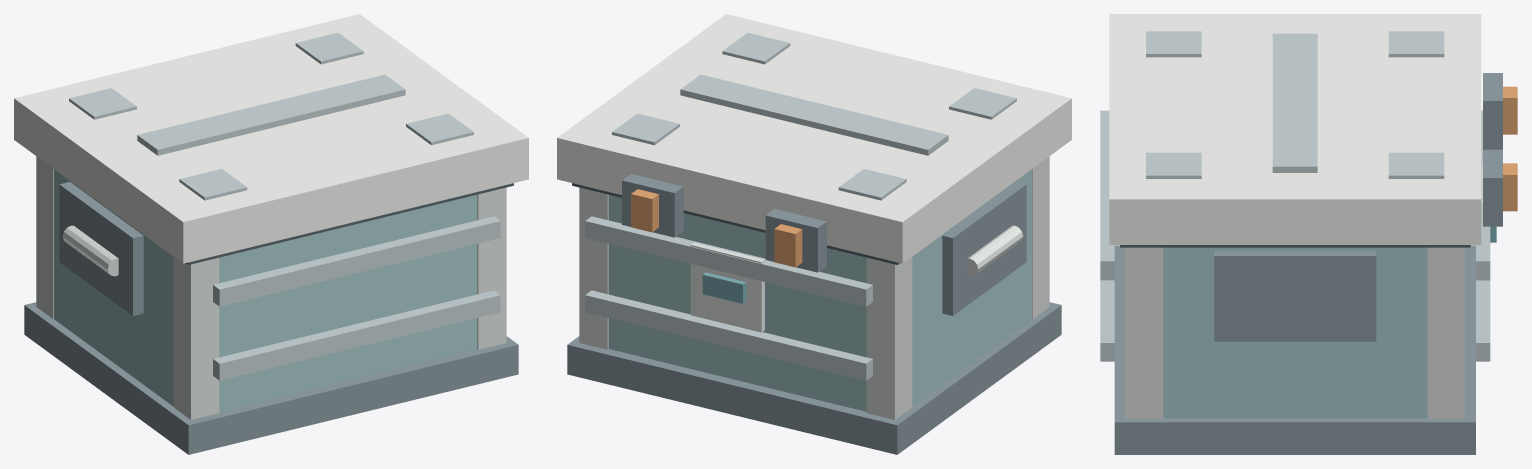
File: supply_crate_small.glb
3 renders of one model, left to right at view 1: azimuth 30°, elevation 25°; view 2: azimuth 150°, elevation 25°; view 3: azimuth 270°, elevation 25°, orthographic. The views are drawn at different scales.
Parts seen in each view (by area): view 1: lid_white_painted, body_teal_soft, bottom_skid_dark_alloy, reinforcing_ribs_alloy, corner_ribs_satin_steel, top_spine_alloy, side_handle_well_dark_alloy, stacking_guides_alloy, carry_handles_satin_steel, lid_seal_black_rubber; view 2: lid_white_painted, body_teal_soft, bottom_skid_dark_alloy, corner_ribs_satin_steel, reinforcing_ribs_alloy, top_spine_alloy, side_handle_well_dark_alloy, stacking_guides_alloy, latch_housings_dark_alloy, symbol_plate_white_ceramic, lid_latches_orange, carry_handles_satin_steel (+2 smaller); view 3: lid_white_painted, body_teal_soft, bottom_skid_dark_alloy, side_handle_well_dark_alloy, corner_ribs_satin_steel, top_spine_alloy, stacking_guides_alloy, reinforcing_ribs_alloy, latch_housings_dark_alloy, lid_latches_orange, lid_seal_black_rubber.
Boxes of the visible parts, box(x1,y1,x2,y2) form: lid_white_painted: box(14, 14, 528, 263); body_teal_soft: box(54, 169, 477, 411); bottom_skid_dark_alloy: box(24, 302, 518, 454); reinforcing_ribs_alloy: box(213, 216, 500, 380); corner_ribs_satin_steel: box(36, 156, 506, 419); top_spine_alloy: box(137, 74, 405, 155); side_handle_well_dark_alloy: box(59, 182, 143, 315); stacking_guides_alloy: box(69, 32, 473, 200); carry_handles_satin_steel: box(62, 225, 118, 276); lid_seal_black_rubber: box(186, 183, 513, 264); lid_white_painted: box(557, 14, 1071, 263); body_teal_soft: box(608, 169, 1031, 411); bottom_skid_dark_alloy: box(567, 302, 1061, 454); corner_ribs_satin_steel: box(579, 156, 1049, 419); reinforcing_ribs_alloy: box(585, 216, 872, 380); top_spine_alloy: box(680, 74, 948, 155); side_handle_well_dark_alloy: box(942, 182, 1026, 315); stacking_guides_alloy: box(612, 32, 1016, 200); latch_housings_dark_alloy: box(622, 174, 826, 272); symbol_plate_white_ceramic: box(690, 242, 764, 332); lid_latches_orange: box(631, 189, 802, 267); carry_handles_satin_steel: box(967, 225, 1023, 276); lid_white_painted: box(1109, 14, 1481, 244); body_teal_soft: box(1163, 247, 1427, 418); bottom_skid_dark_alloy: box(1114, 245, 1475, 454); side_handle_well_dark_alloy: box(1214, 250, 1376, 341); corner_ribs_satin_steel: box(1125, 247, 1464, 418); top_spine_alloy: box(1272, 33, 1317, 172); stacking_guides_alloy: box(1146, 31, 1444, 178); reinforcing_ribs_alloy: box(1100, 110, 1490, 361); latch_housings_dark_alloy: box(1483, 73, 1502, 226); lid_latches_orange: box(1503, 86, 1517, 211); lid_seal_black_rubber: box(1120, 245, 1470, 247).
Size of the model in its own units: 0.5105 by 0.327 by 0.4645.
